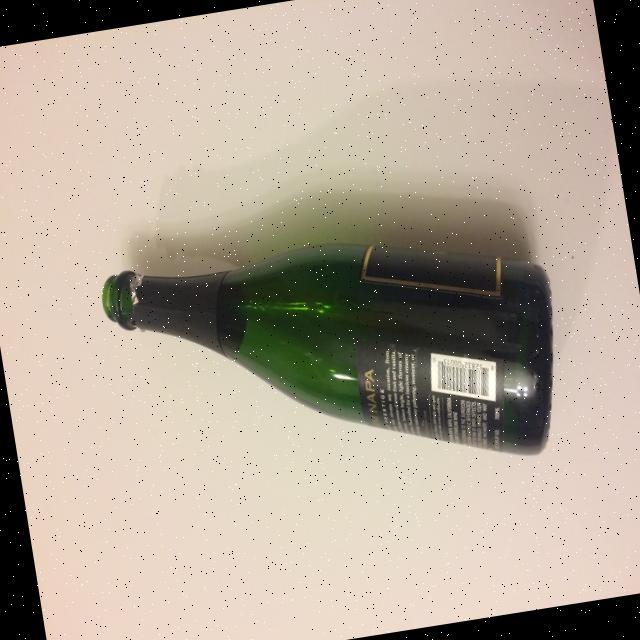glass: (97, 202, 577, 519)
